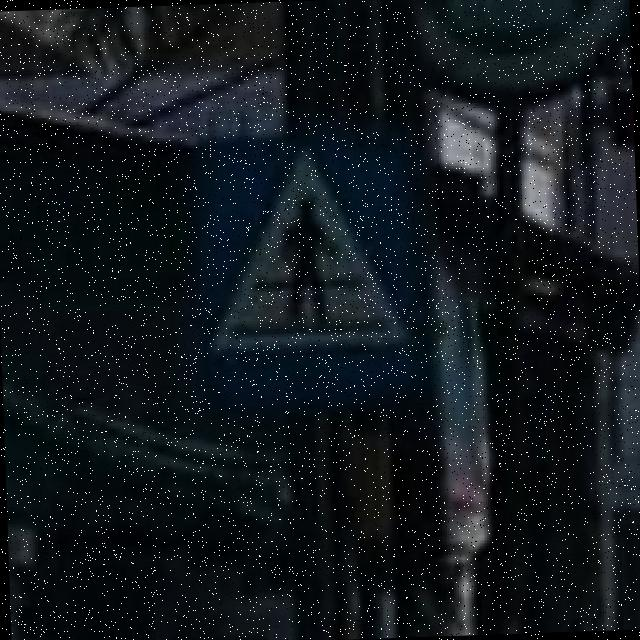Przejscie dla pieszych: (198, 128, 428, 412)
